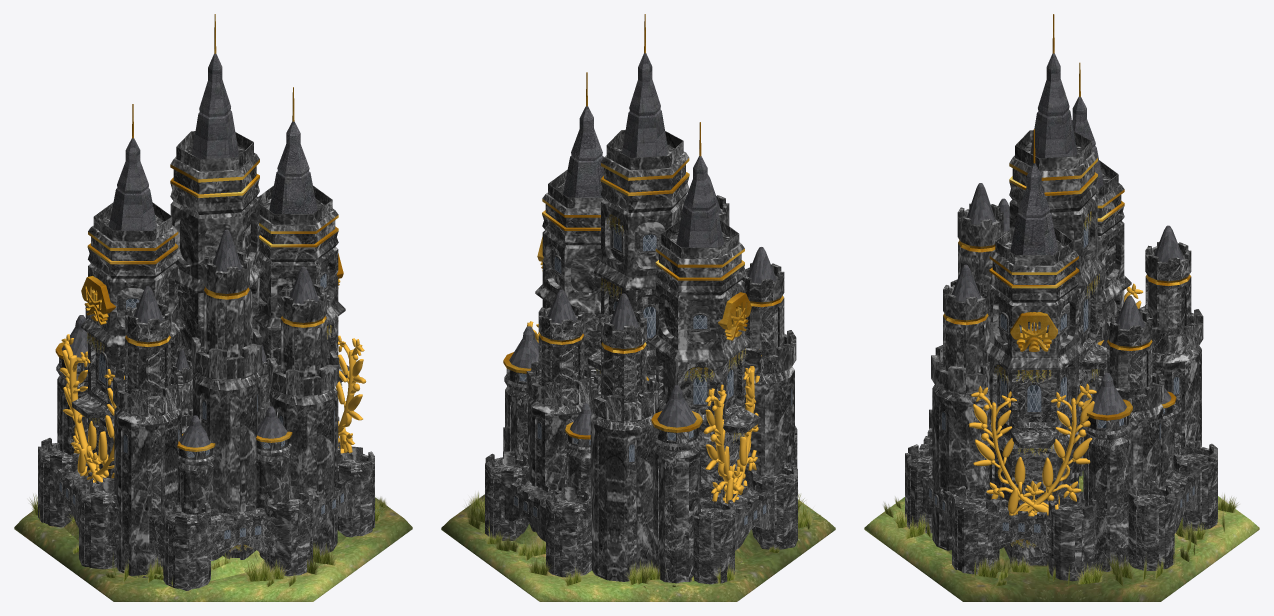
The model's file is castle_s1_lvl2.glb.
3 renders of one model, left to right at view 1: azimuth 30°, elevation 25°; view 2: azimuth 150°, elevation 25°; view 3: azimuth 270°, elevation 25°, orthographic.
Visible parts, largest first — view 1: castles1; view 2: castles1; view 3: castles1.
Boxes of the visible parts, bbox=[...] form: castles1: bbox=[14, 14, 412, 601]; castles1: bbox=[441, 14, 835, 601]; castles1: bbox=[864, 14, 1259, 601].
Size of the model in its own units: 1.73 by 2.87 by 2.
Materials: 5 (4 with a texture image).
